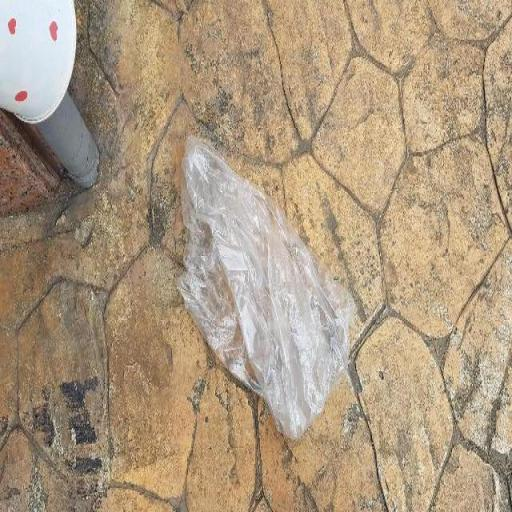plastic-bag: (174, 133, 356, 443)
